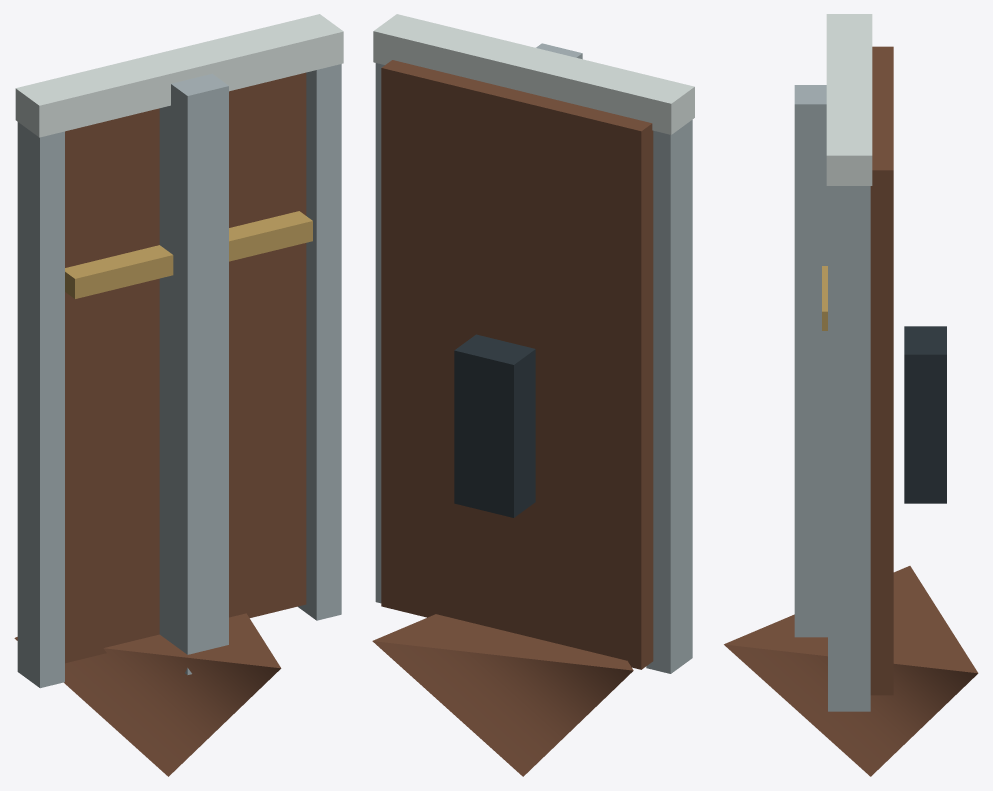
File: fixed-tower-lod1.glb
The picture shows the model from 3 angles, left to right: view 1: azimuth 30°, elevation 25°; view 2: azimuth 150°, elevation 25°; view 3: azimuth 270°, elevation 25°; orthographic projection. The views are drawn at different scales.
Visible parts, largest first — view 1: piece_whole; view 2: piece_whole; view 3: piece_whole.
Part boxes in pixels (<box>): piece_whole: <box>14,14,343,776</box>; piece_whole: <box>372,14,694,776</box>; piece_whole: <box>724,14,978,776</box>.
Bounding box in the file's own units: 0.55 × 1.25 × 0.4183.
